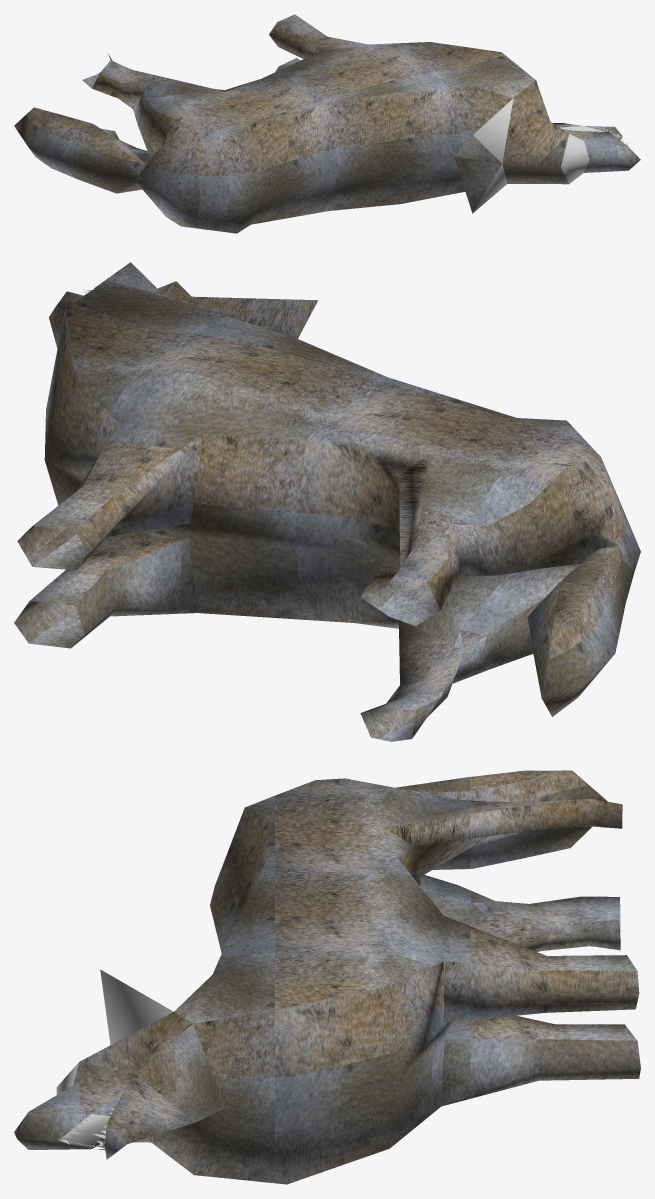
The model's file is wolf.obj.
3 views of the same model, one above another, from view 1: azimuth 30°, elevation 25°; view 2: azimuth 150°, elevation 25°; view 3: azimuth 270°, elevation 25° (orthographic). The views are drawn at different scales.
Parts seen in each view (by area): view 1: Plane; view 2: Plane; view 3: Plane.
Boxes of the visible parts, box(x1,y1,x2,y2) form: Plane: box(14, 14, 640, 233); Plane: box(14, 262, 640, 741); Plane: box(14, 770, 640, 1184).
Bounding box in the file's own units: 1.34 × 0.3583 × 1.03.
